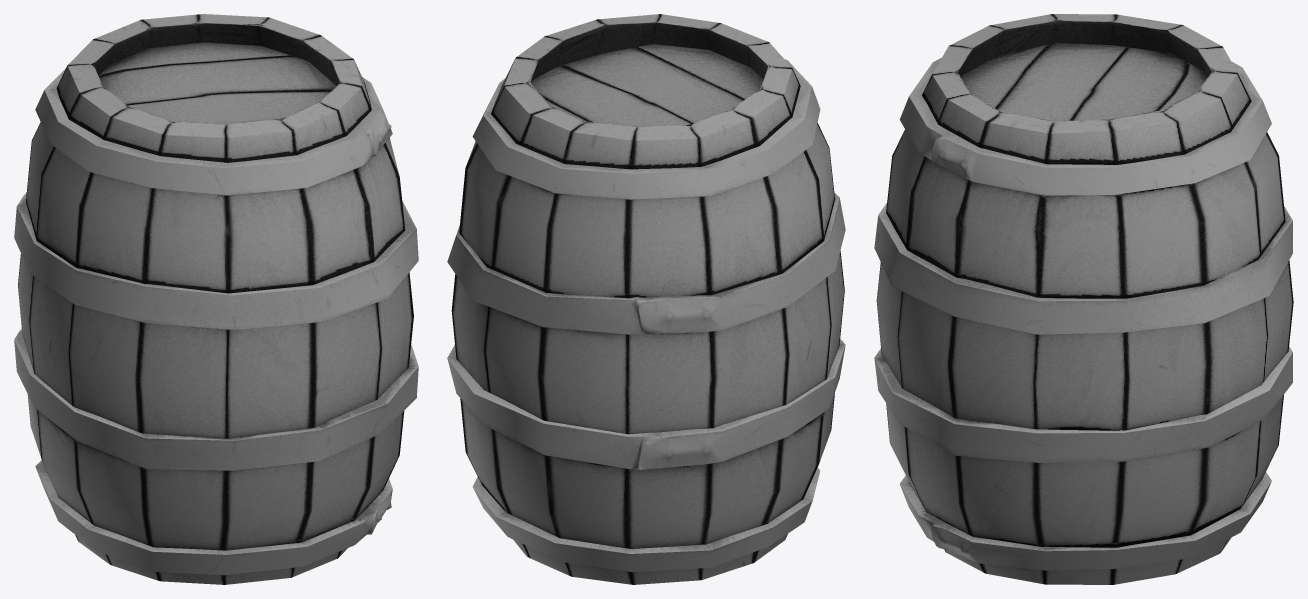
The model's file is barrel.fbx.
3 views of the same model, side by side, from view 1: azimuth 30°, elevation 25°; view 2: azimuth 150°, elevation 25°; view 3: azimuth 270°, elevation 25° (orthographic). The views are drawn at different scales.
Parts seen in each view (by area): view 1: Barrel; view 2: Barrel; view 3: Barrel.
Boxes of the visible parts, <box> form: Barrel: <box>14,14,418,584</box>; Barrel: <box>447,14,845,584</box>; Barrel: <box>874,14,1293,584</box>.
Size of the model in its own units: 207 by 270 by 223.
